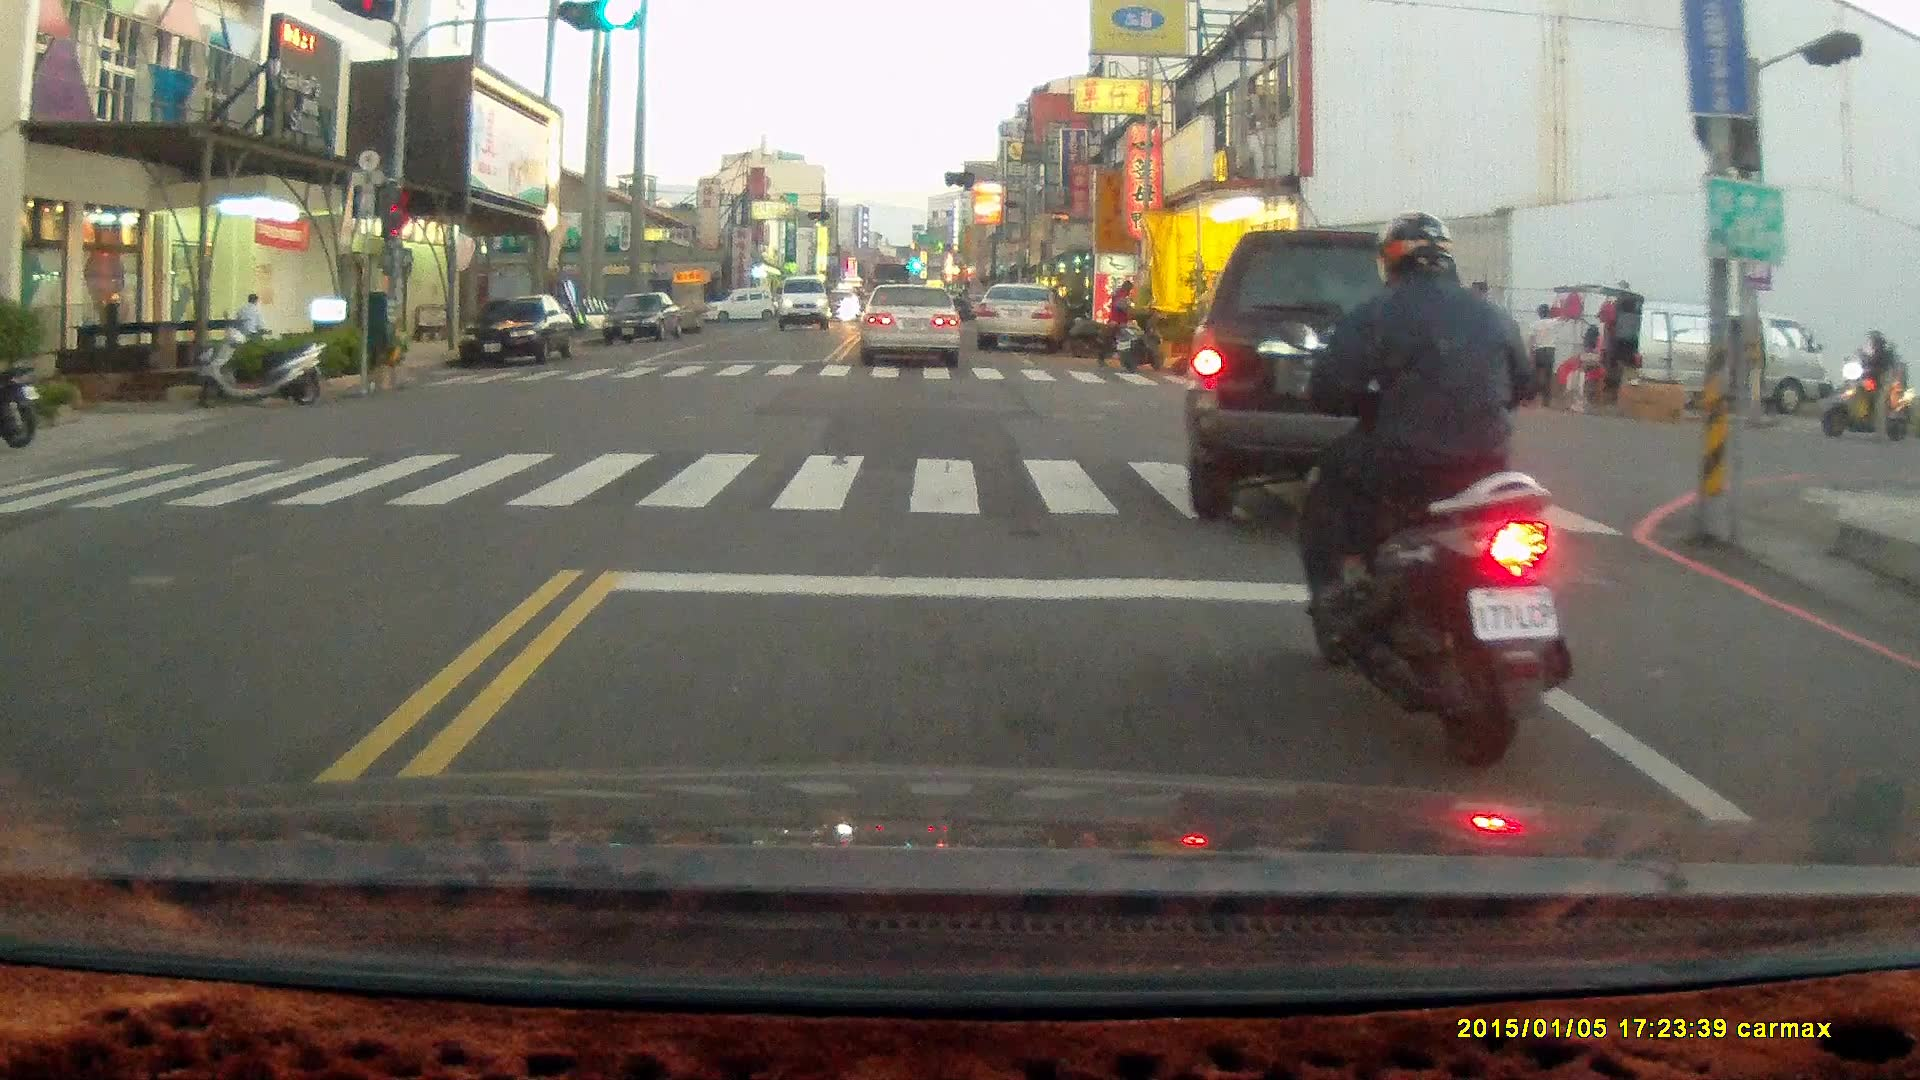pedestrian: (1524, 301, 1560, 410), (1098, 276, 1130, 367), (234, 292, 269, 357)
rider: (1275, 210, 1572, 771), (1816, 328, 1908, 443)
vehicle: (1176, 234, 1514, 538), (1595, 301, 1834, 418), (462, 293, 576, 372), (857, 281, 964, 363), (976, 278, 1064, 354), (603, 290, 685, 346), (778, 273, 832, 333)
